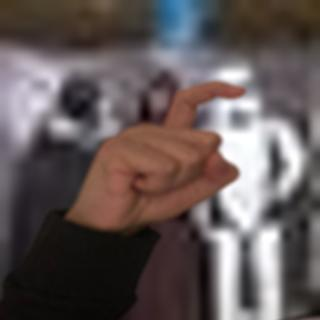WHY: (65, 68, 250, 232)
